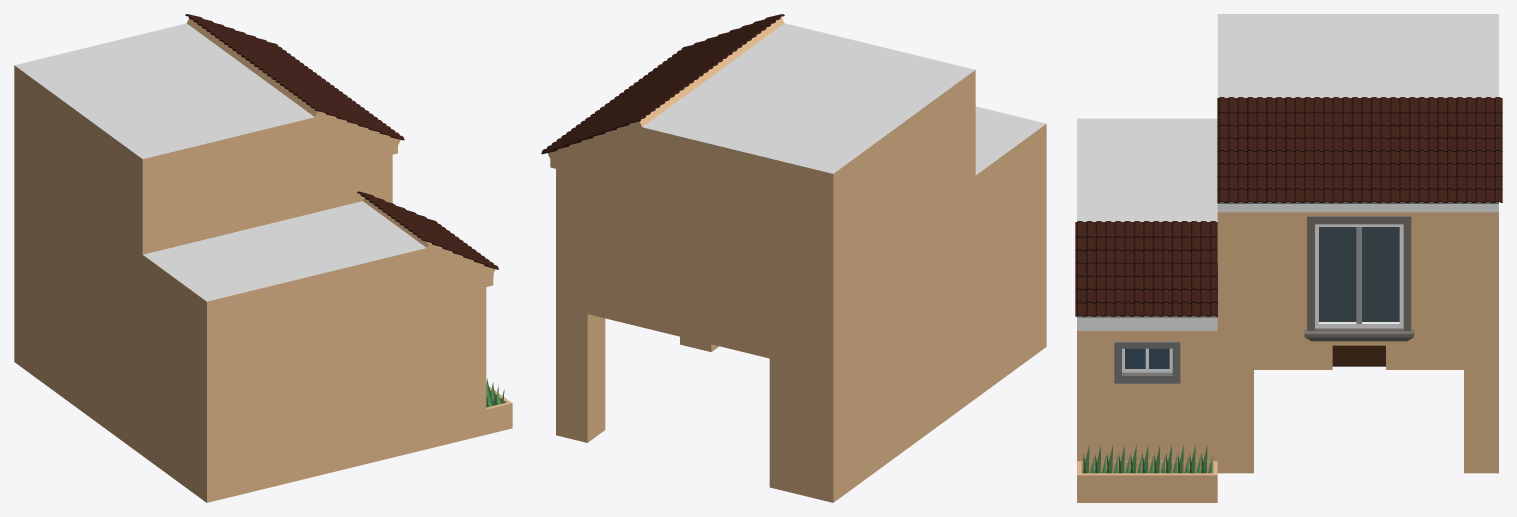
The model's file is PradosHouse.fbx.
3 renders of one model, left to right at view 1: azimuth 30°, elevation 25°; view 2: azimuth 150°, elevation 25°; view 3: azimuth 270°, elevation 25°, orthographic. The views are drawn at different scales.
Visible parts, largest first — view 1: Cube, Plane.001, Plane; view 2: Cube, Plane.001; view 3: Cube, Plane.001, Plane, Cone.001.
Boxes of the visible parts, x1=… form: Cube: x1=14, y1=18, x2=512, y2=502; Plane.001: x1=185, y1=14, x2=404, y2=140; Plane: x1=357, y1=191, x2=498, y2=269; Cube: x1=547, y1=17, x2=1046, y2=502; Plane.001: x1=541, y1=14, x2=784, y2=154; Cube: x1=1077, y1=14, x2=1498, y2=502; Plane.001: x1=1217, y1=97, x2=1502, y2=202; Plane: x1=1075, y1=221, x2=1217, y2=316; Cone.001: x1=1082, y1=444, x2=1212, y2=473.
Size of the model in its own units: 1101 by 1051 by 1215.
